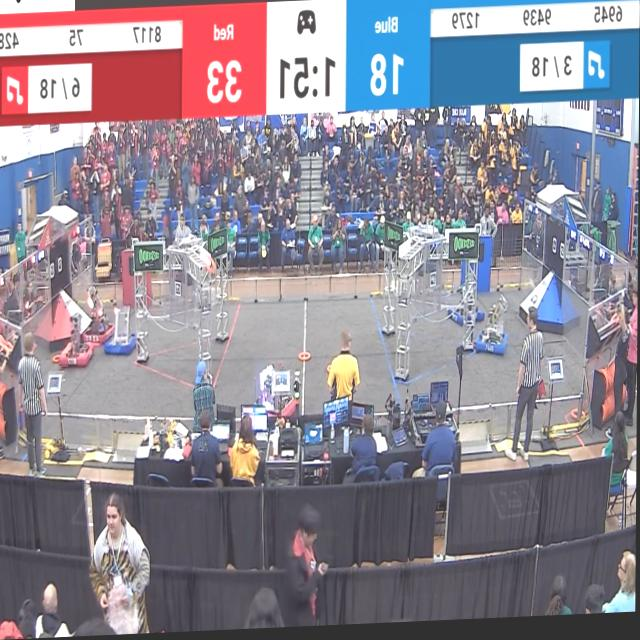Robot: (53, 292, 99, 375), (253, 354, 303, 428), (83, 278, 112, 346), (106, 296, 136, 361), (478, 303, 509, 363), (450, 284, 483, 335)
